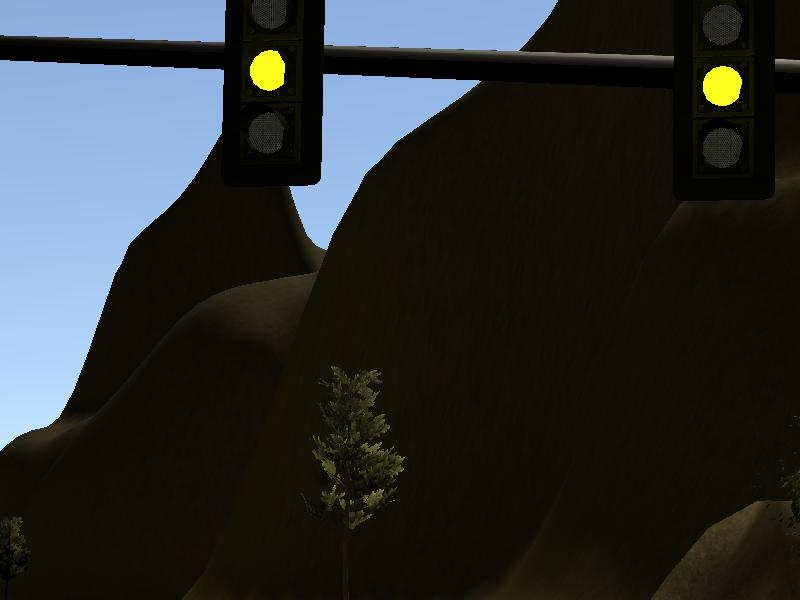yellow: (662, 1, 783, 208), (211, 1, 332, 194)
